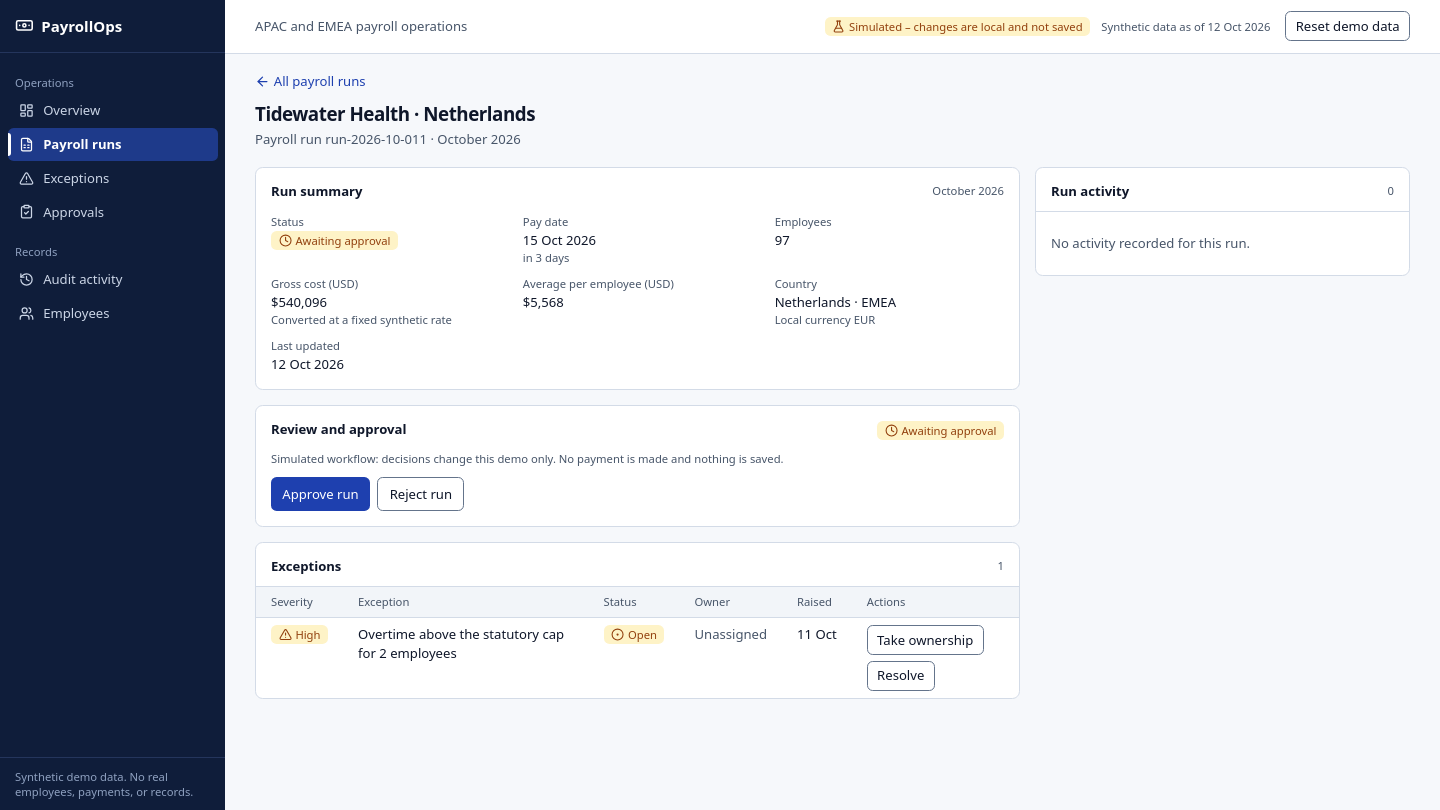
Test: one workflow, every view › moves a rejected run out of the approval queue and into review
Click the button "Reject run" at (421, 494), box [377,477,464,511]
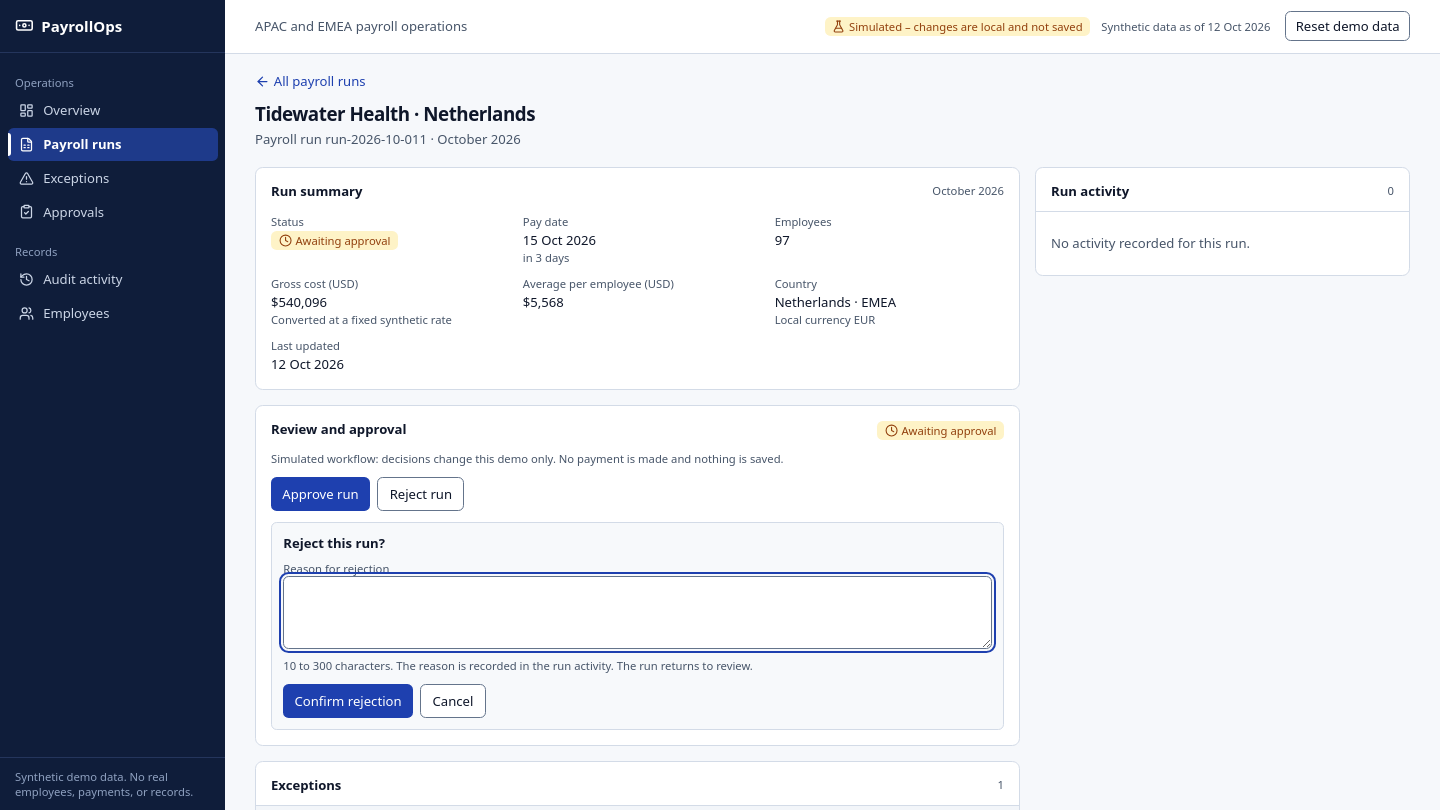
Type "Allowance rates are unconfirmed." into the text box labelled "Reason for rejection" at (638, 612), box [283,576,992,649]
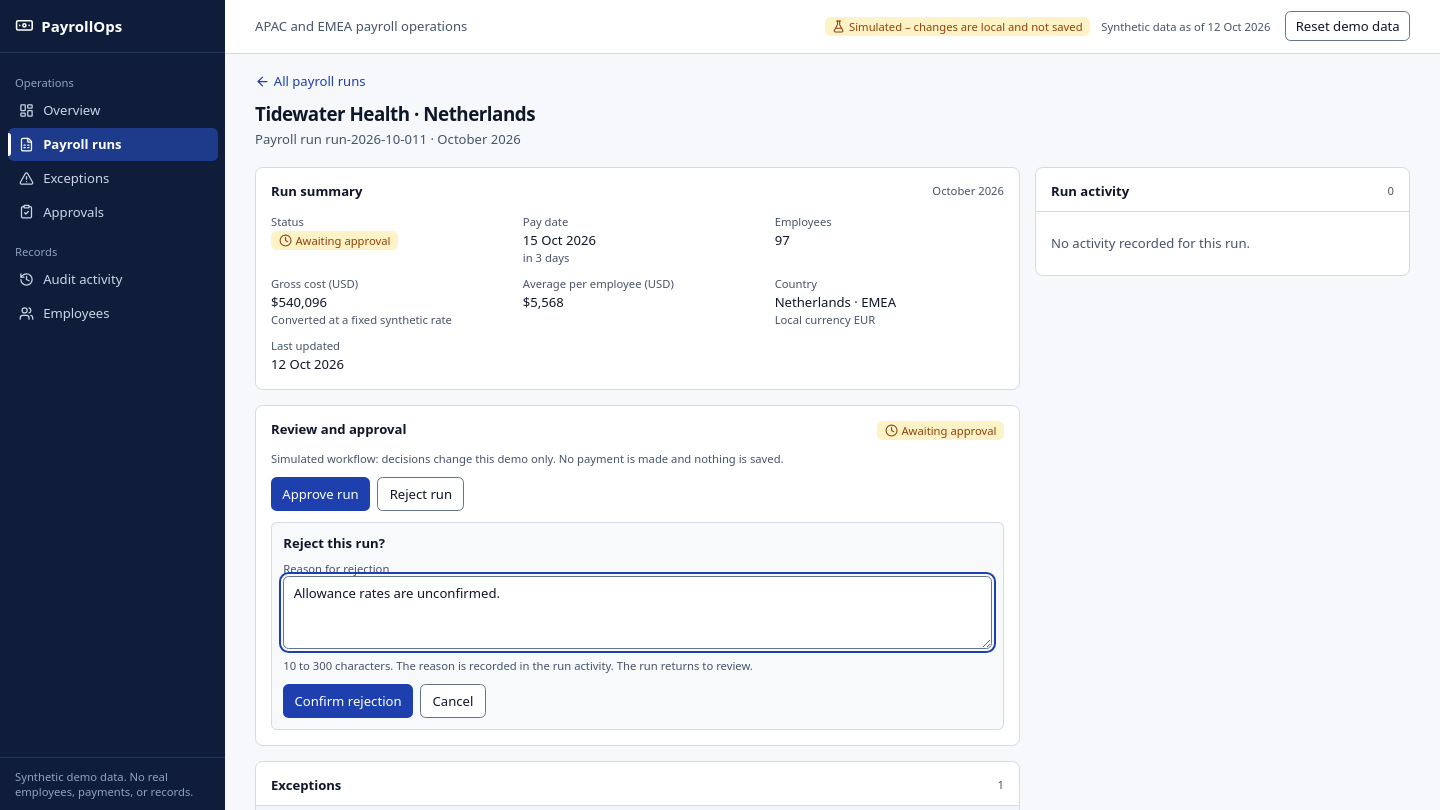
Click the button "Confirm rejection" at (348, 701), box [283,684,413,718]
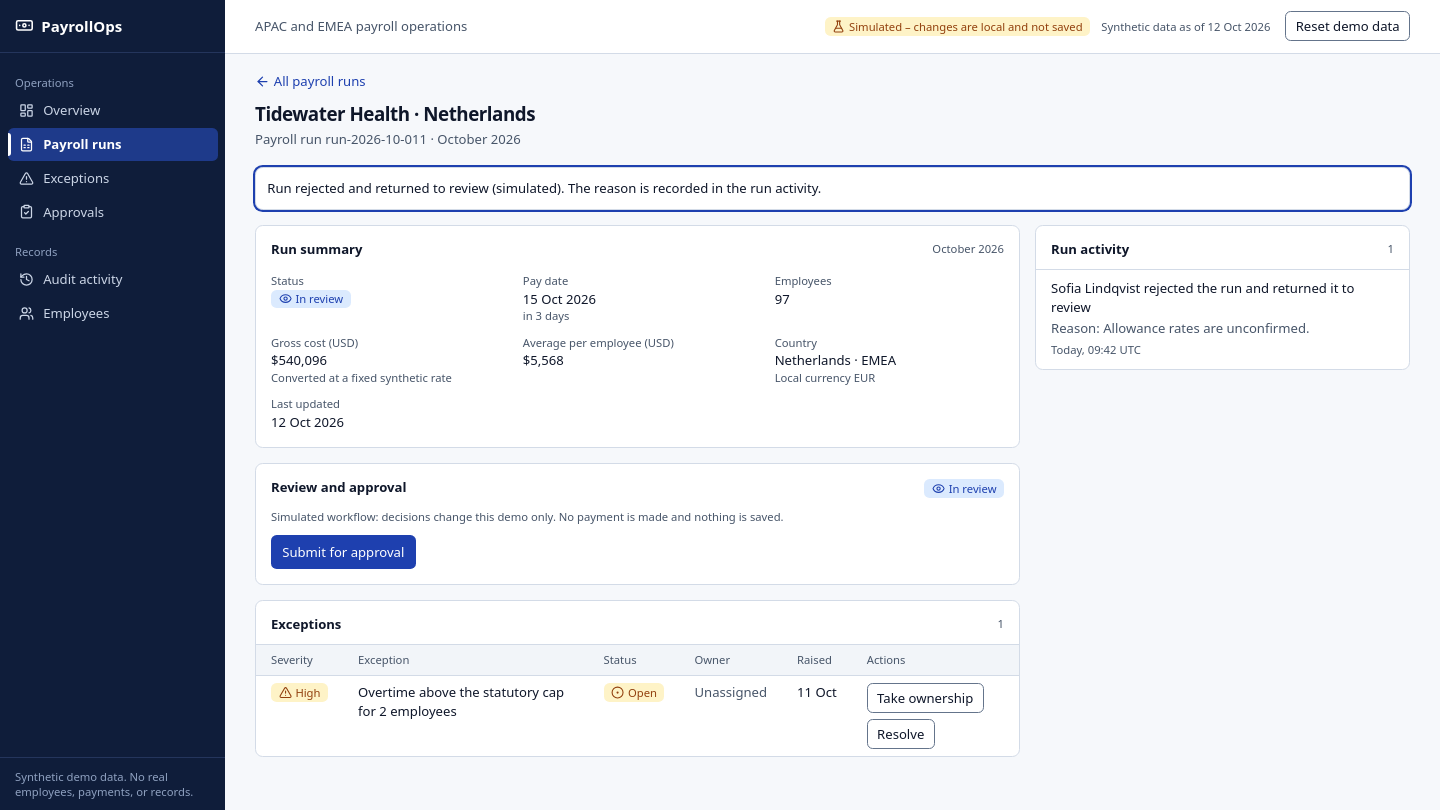
Click the link "Overview" at (60, 110), box [19,101,100,119]
(page scrolled)
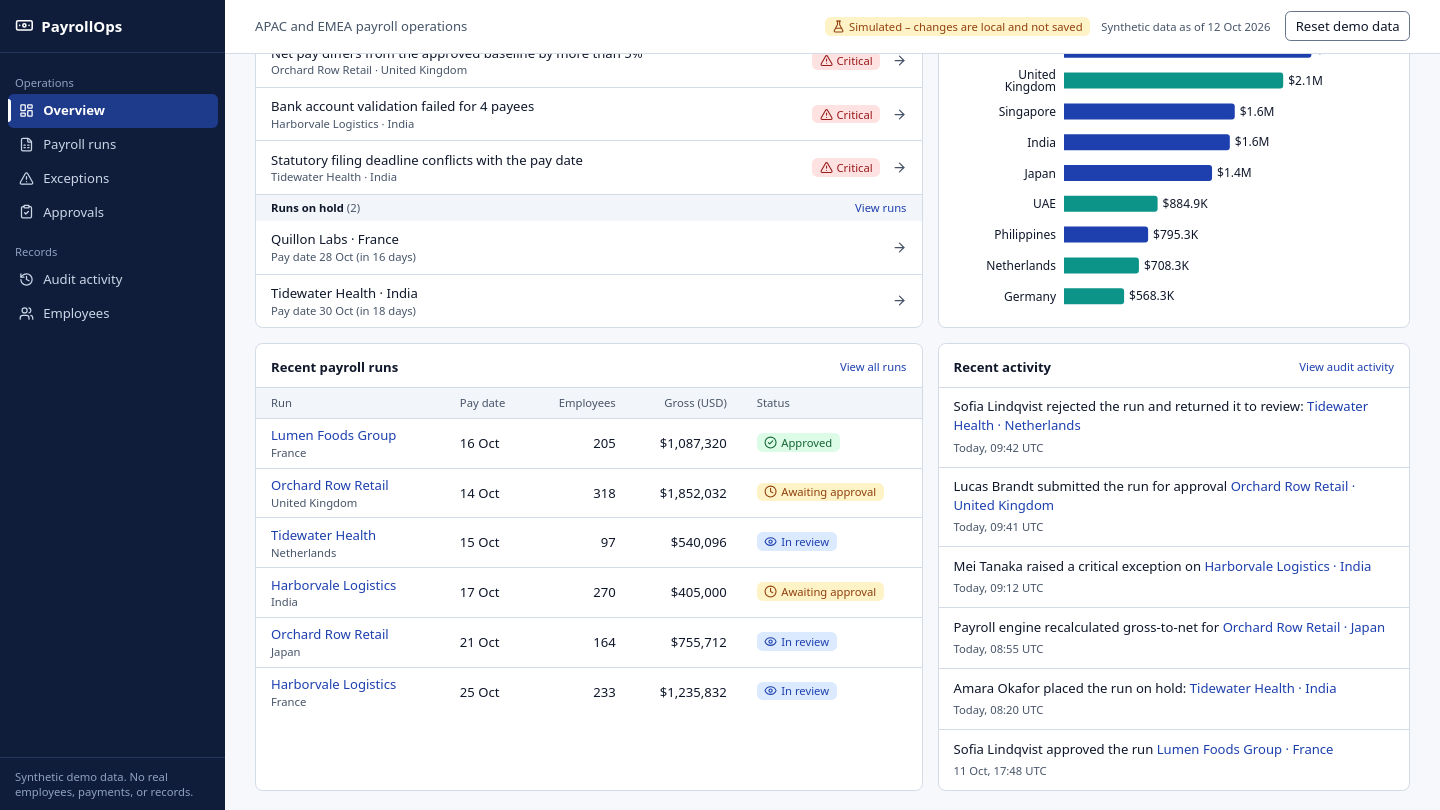
expect the text "rejected the run and returned it to review: Tidewater Health · Netherlands" is shown: met, box [938,388,1409,467]
